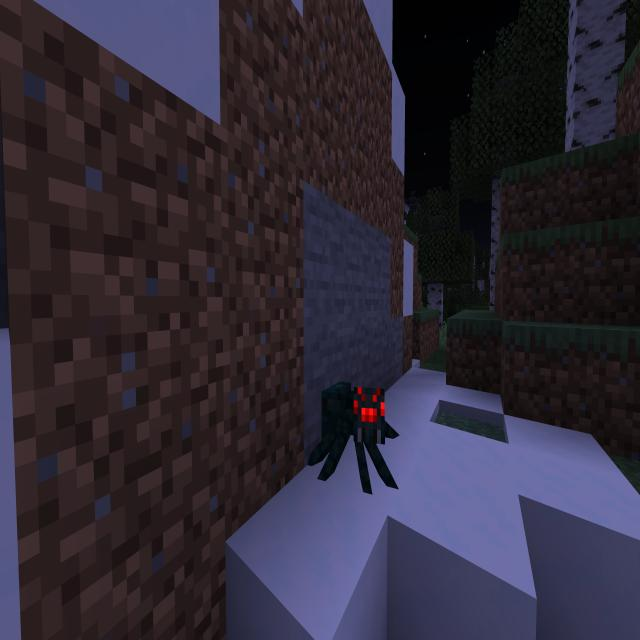Cave Spider: (300, 374, 408, 502)
